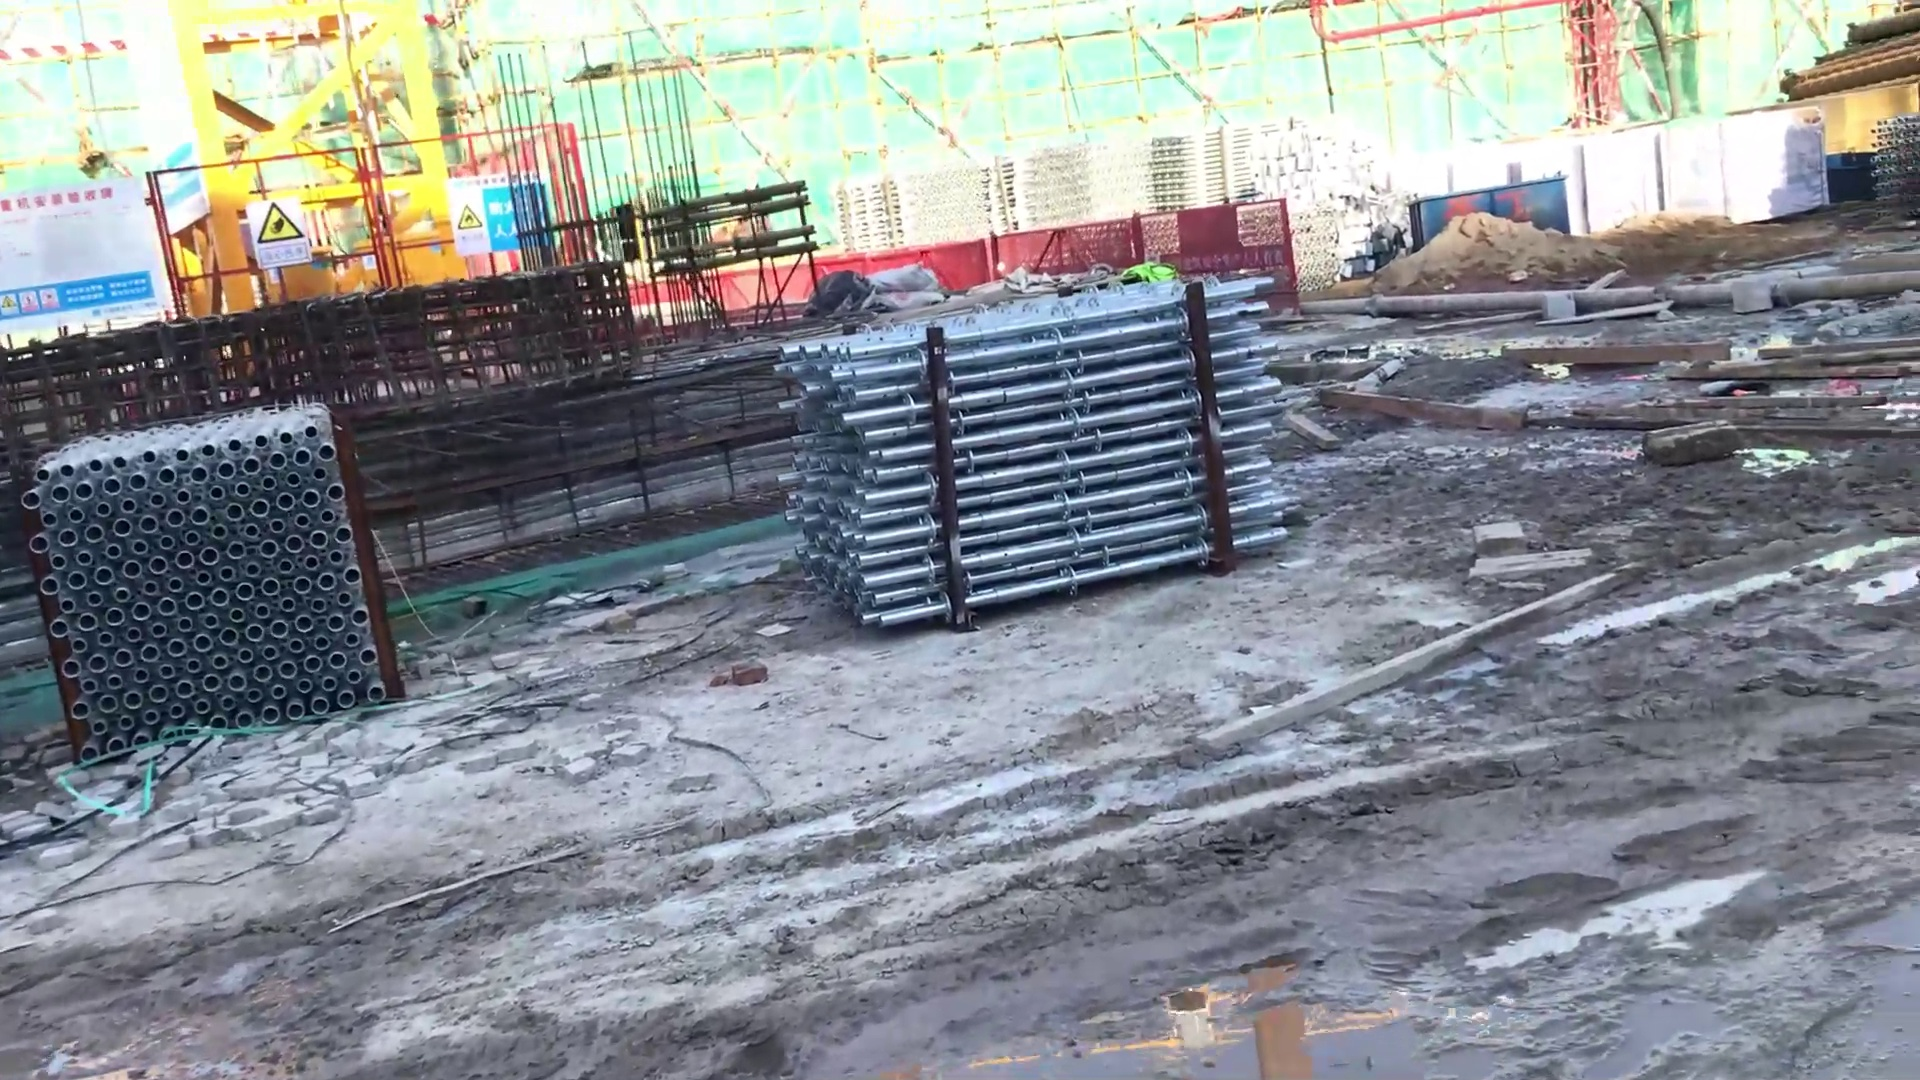fence: (138, 120, 601, 318), (916, 203, 1309, 289)
hopper: (1400, 153, 1617, 280)
scaffold: (754, 310, 1307, 608), (38, 458, 429, 731), (1000, 148, 1141, 231), (840, 164, 989, 233), (1141, 133, 1259, 206)
slogan: (5, 272, 165, 324), (235, 189, 322, 272), (440, 173, 516, 264)
